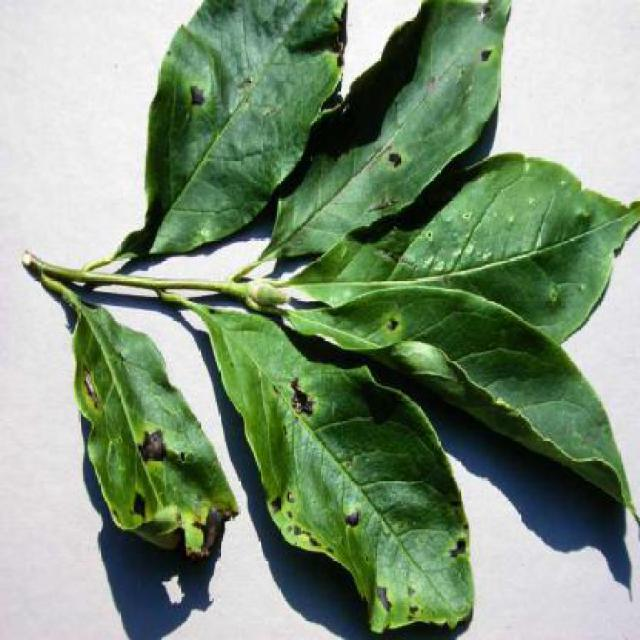Tomato late blight leaf: (200, 296, 476, 632), (291, 291, 637, 517), (233, 5, 510, 274), (57, 302, 231, 584)
